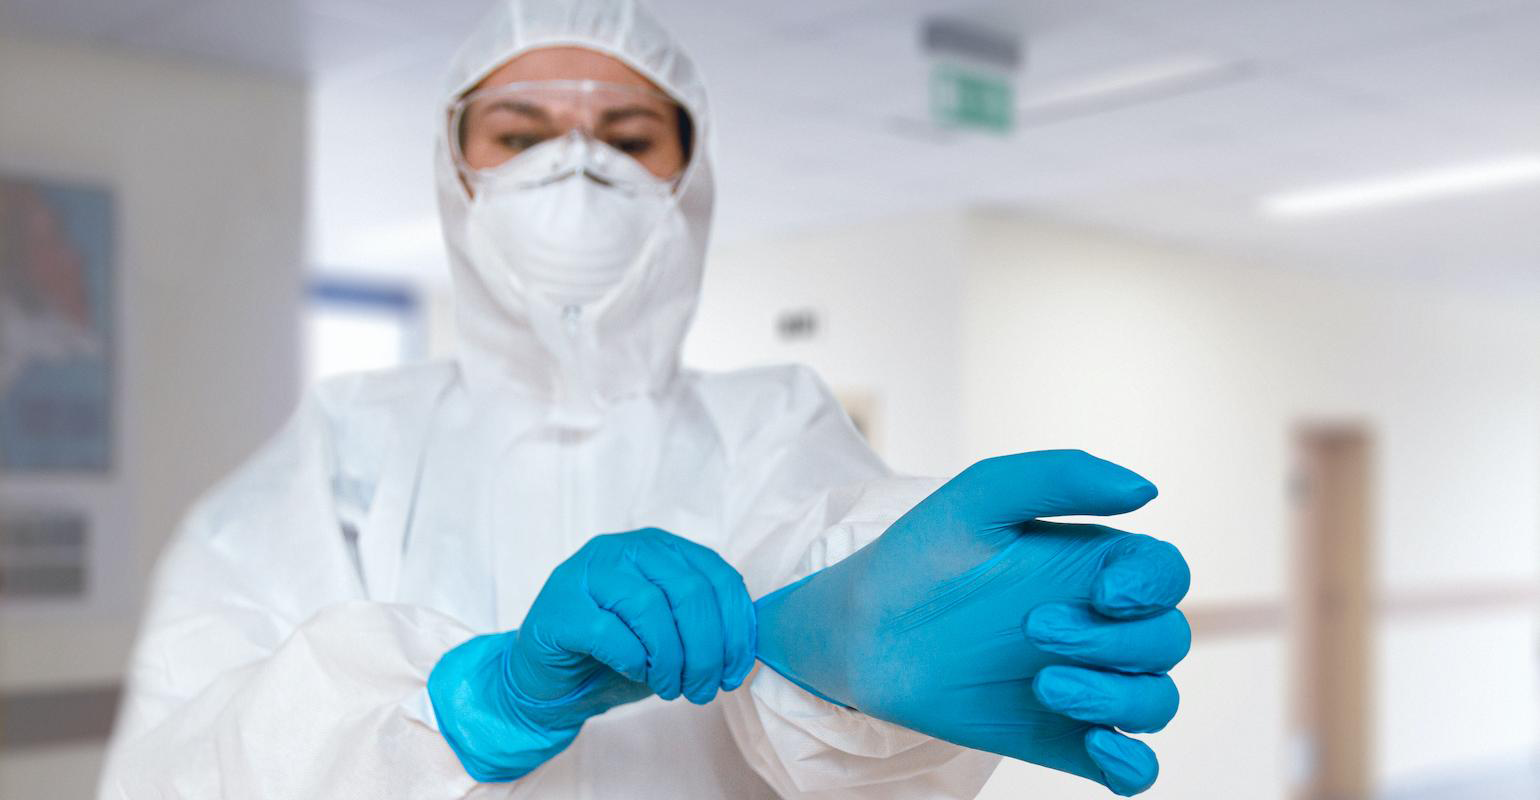Coverall: (106, 5, 995, 794)
Gloves: (791, 444, 1187, 795), (426, 529, 762, 786)
Goggles: (444, 77, 694, 183)
with_mask: (464, 108, 680, 315)
